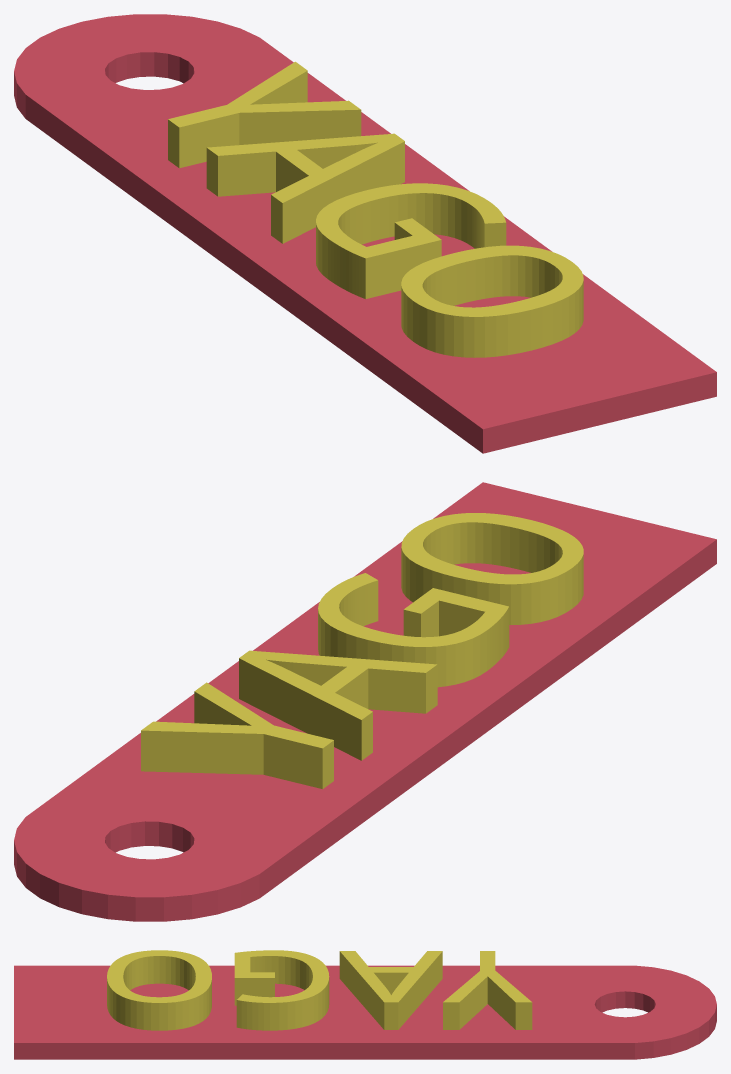
The model's file is asset.glb.
The picture shows the model from 3 angles, top to bottom: view 1: azimuth 30°, elevation 25°; view 2: azimuth 150°, elevation 25°; view 3: azimuth 270°, elevation 25°; orthographic projection. The views are drawn at different scales.
Parts seen in each view (by area): view 1: Mesh_Mesh_head_geo.001_lambert2SG.001; view 2: Mesh_Mesh_head_geo.001_lambert2SG.001; view 3: Mesh_Mesh_head_geo.001_lambert2SG.001.
Boxes of the visible parts, x1=… form: Mesh_Mesh_head_geo.001_lambert2SG.001: x1=14, y1=14, x2=716, y2=453; Mesh_Mesh_head_geo.001_lambert2SG.001: x1=14, y1=482, x2=716, y2=921; Mesh_Mesh_head_geo.001_lambert2SG.001: x1=14, y1=950, x2=716, y2=1059.
Bounding box in the file's own units: 30 × 8 × 115.
